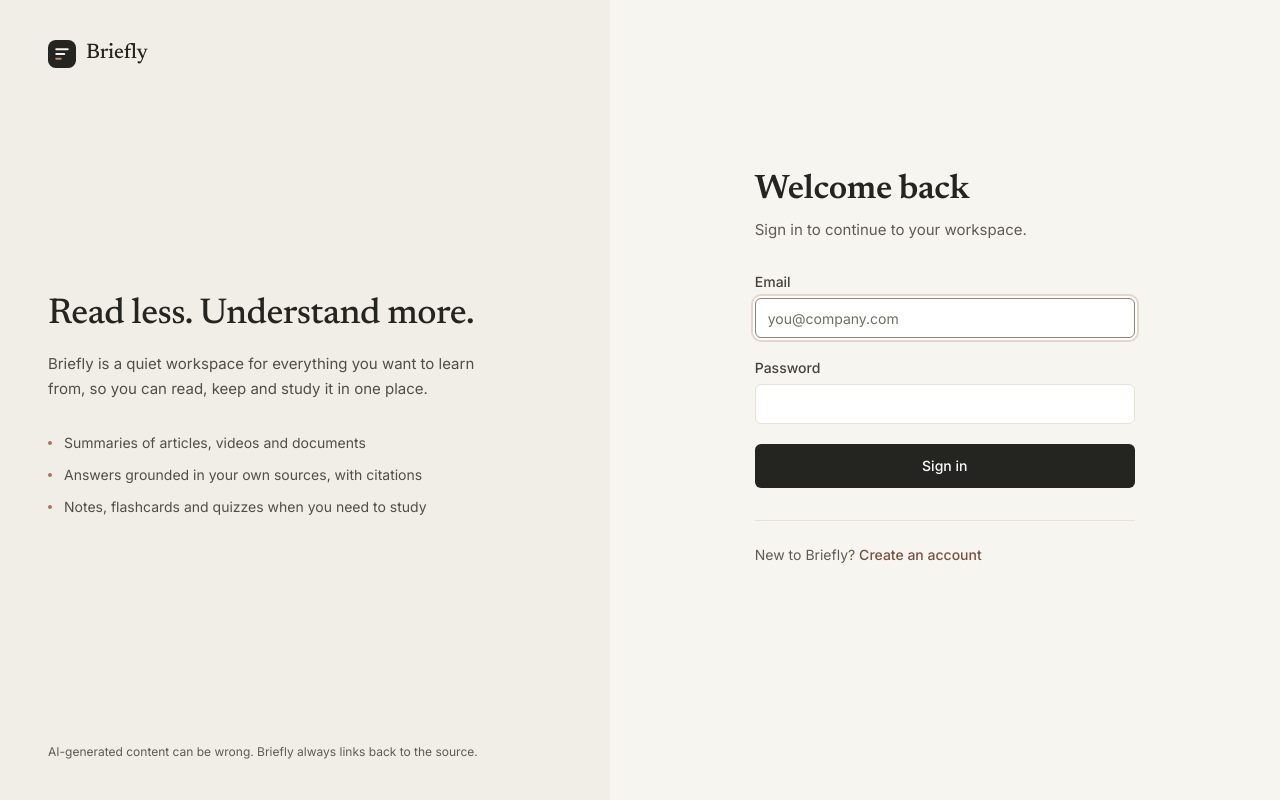
Test case: Login form › rejects a malformed email
Step 1. Type "not-an-email" into the field labelled "Email" → [945, 318], box [755,298,1135,338]
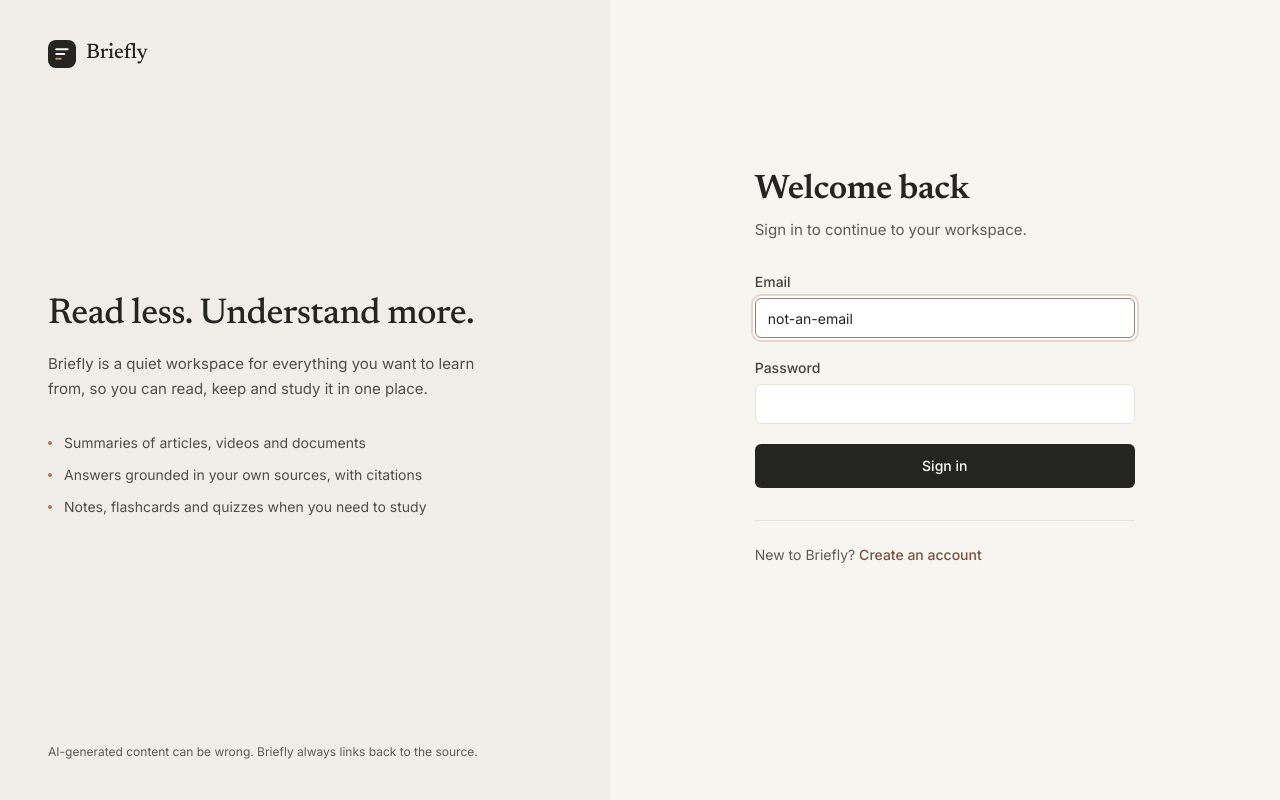
Step 2. Type "whatever1" into the password field labelled "Password" → [945, 404], box [755,384,1135,424]
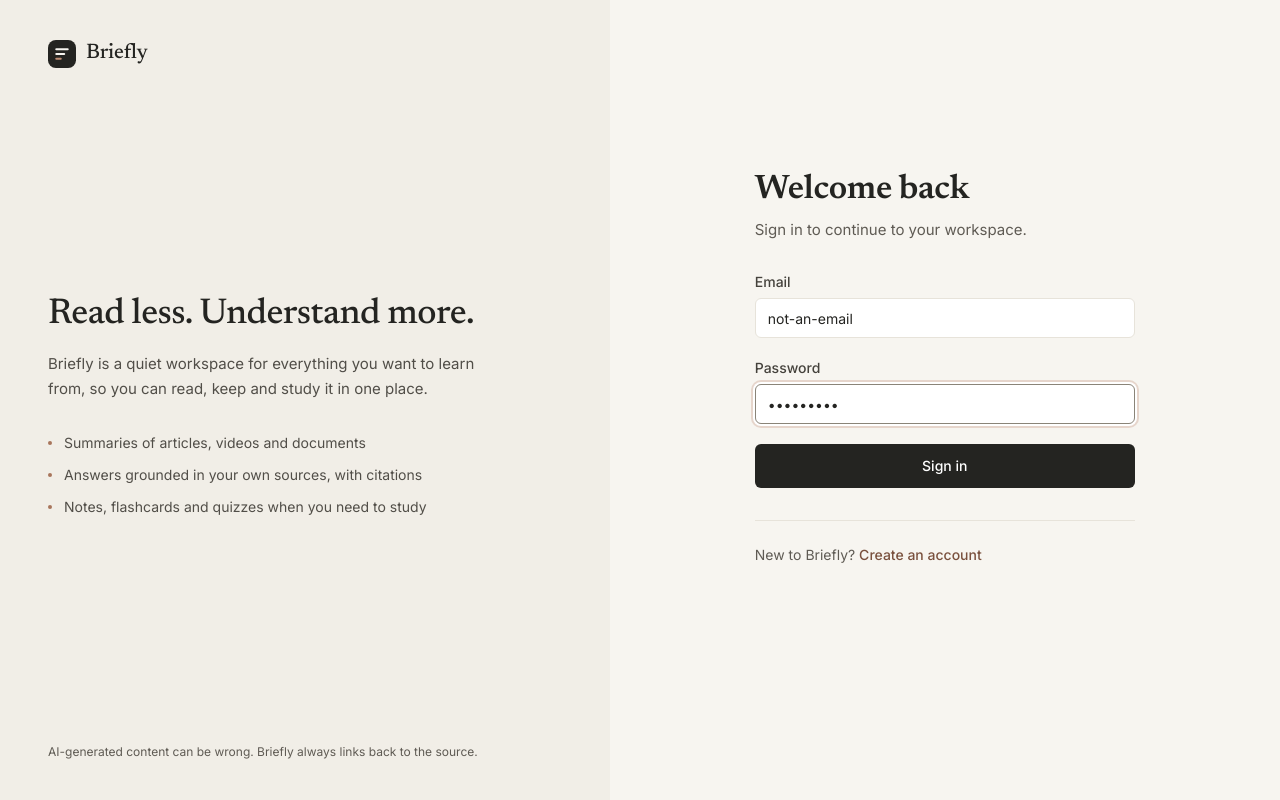
Step 3. Click the button "Sign in" → [945, 466], box [755,444,1135,488]
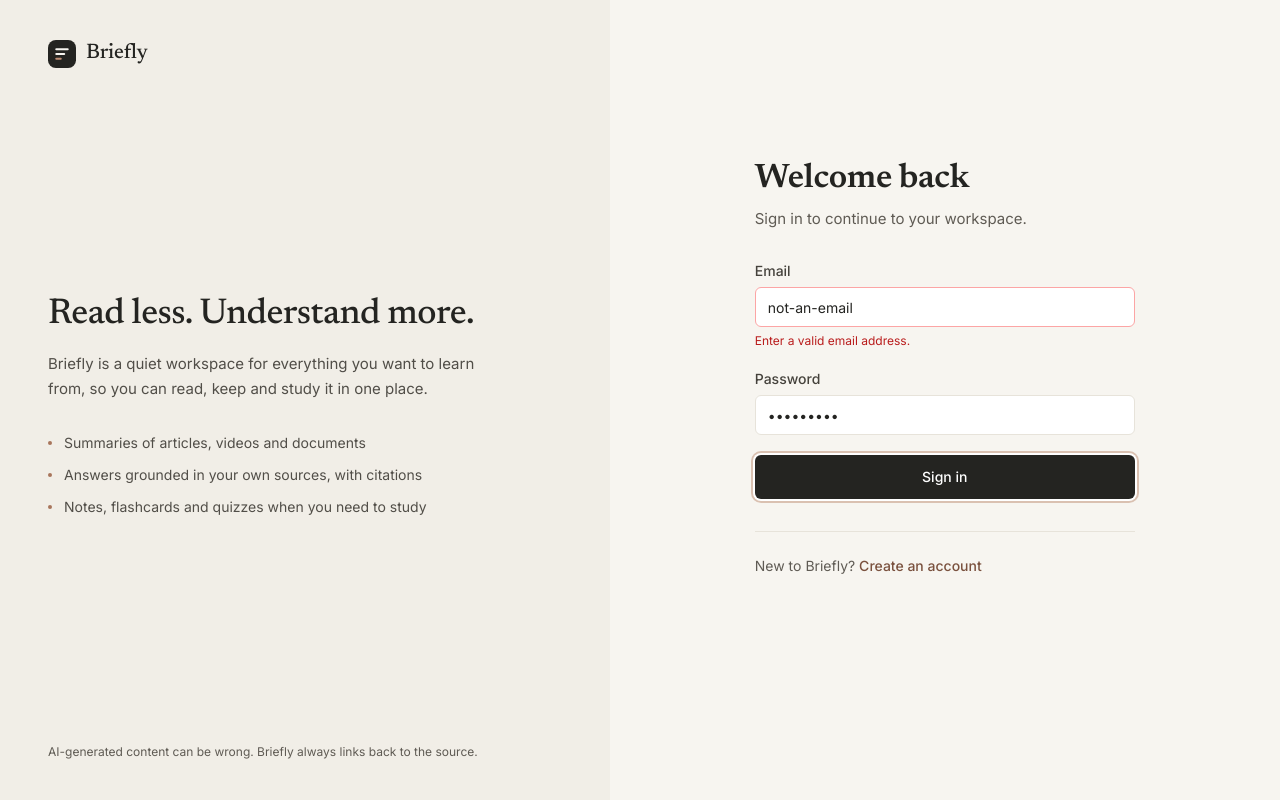
Expected: the text "Enter a valid email address." is shown, [755,333,910,348]
